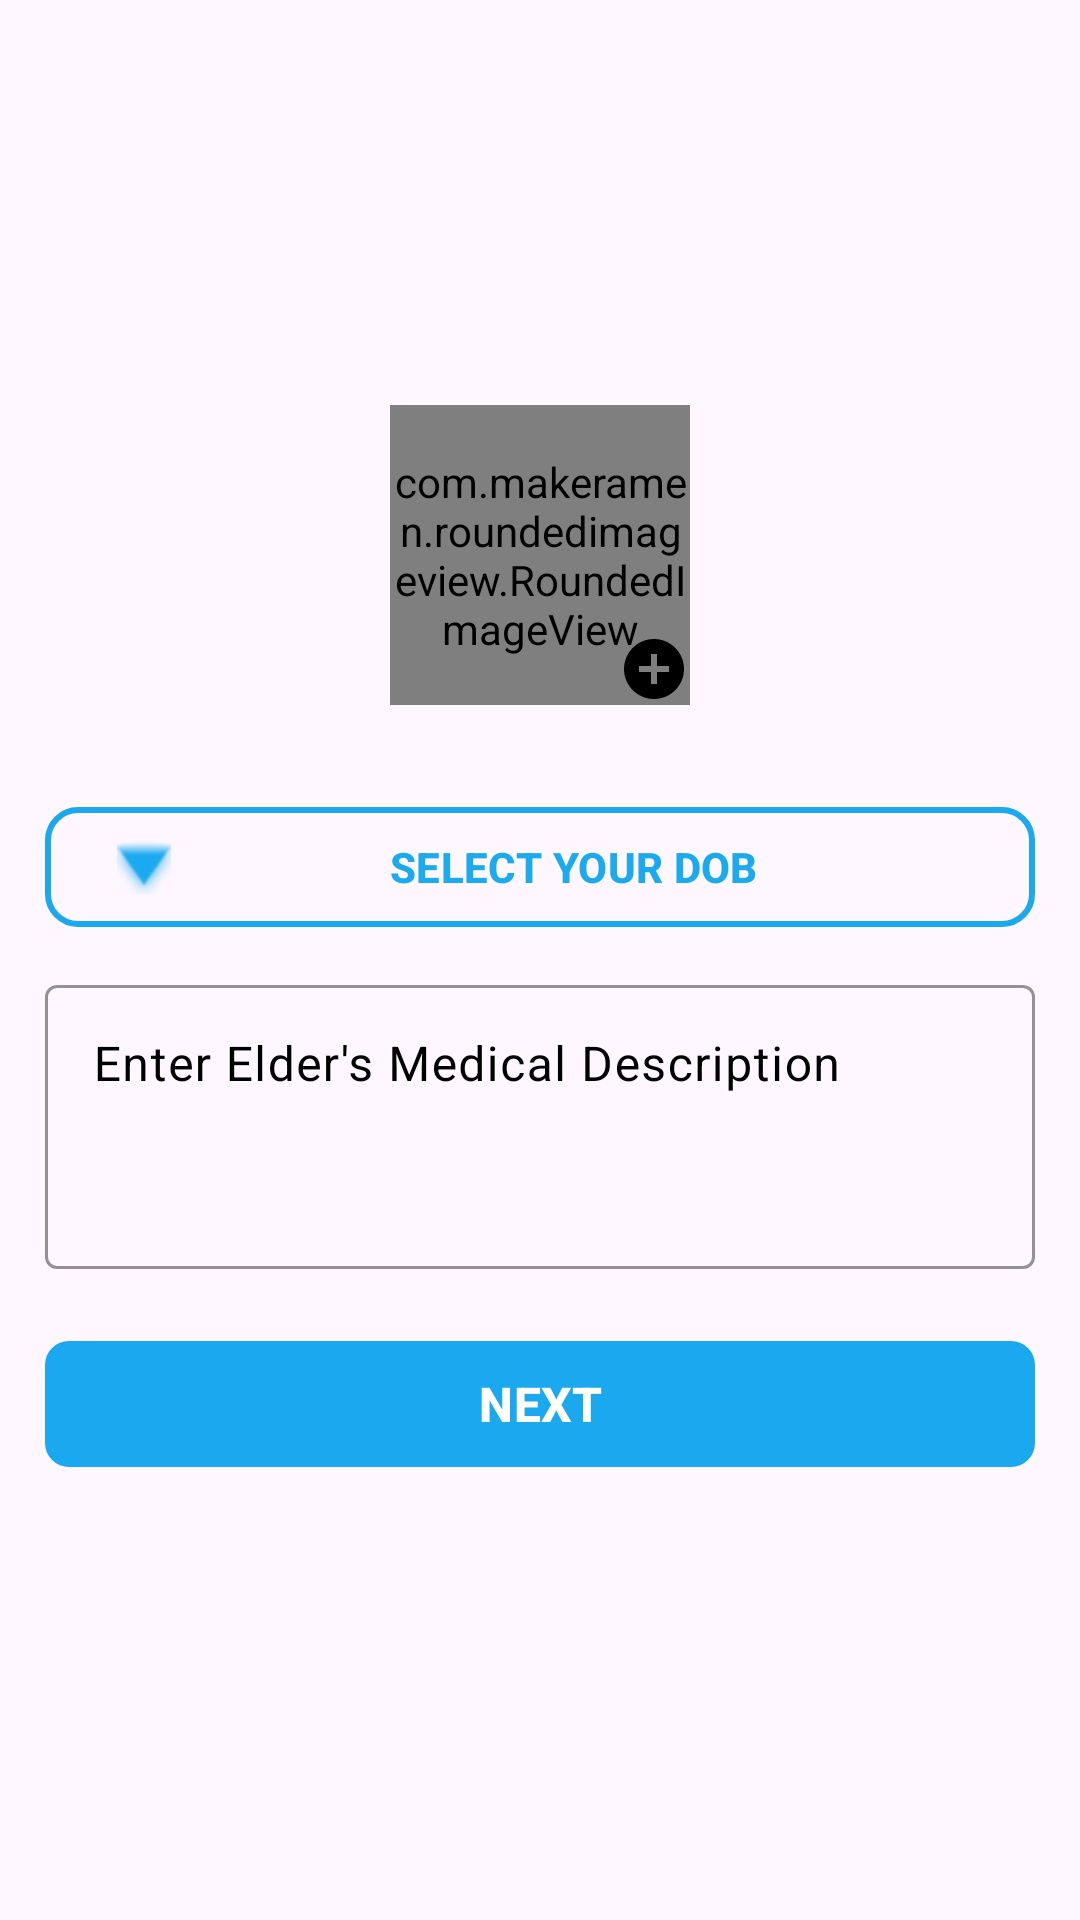

Icon bounding boxes for this 1080px x 1920px phone screenshot, format detection(x1, y1, x2, y2):
add circle: detection(624, 639, 684, 699)
